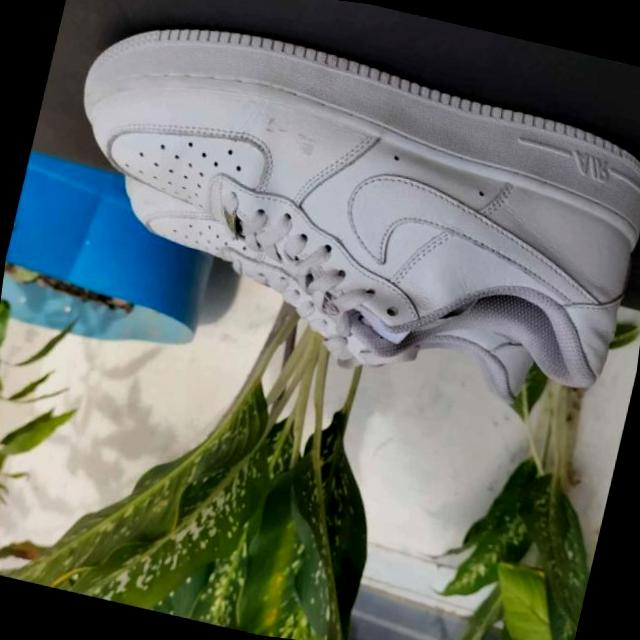nike_original_airforce: (33, 0, 640, 403)
